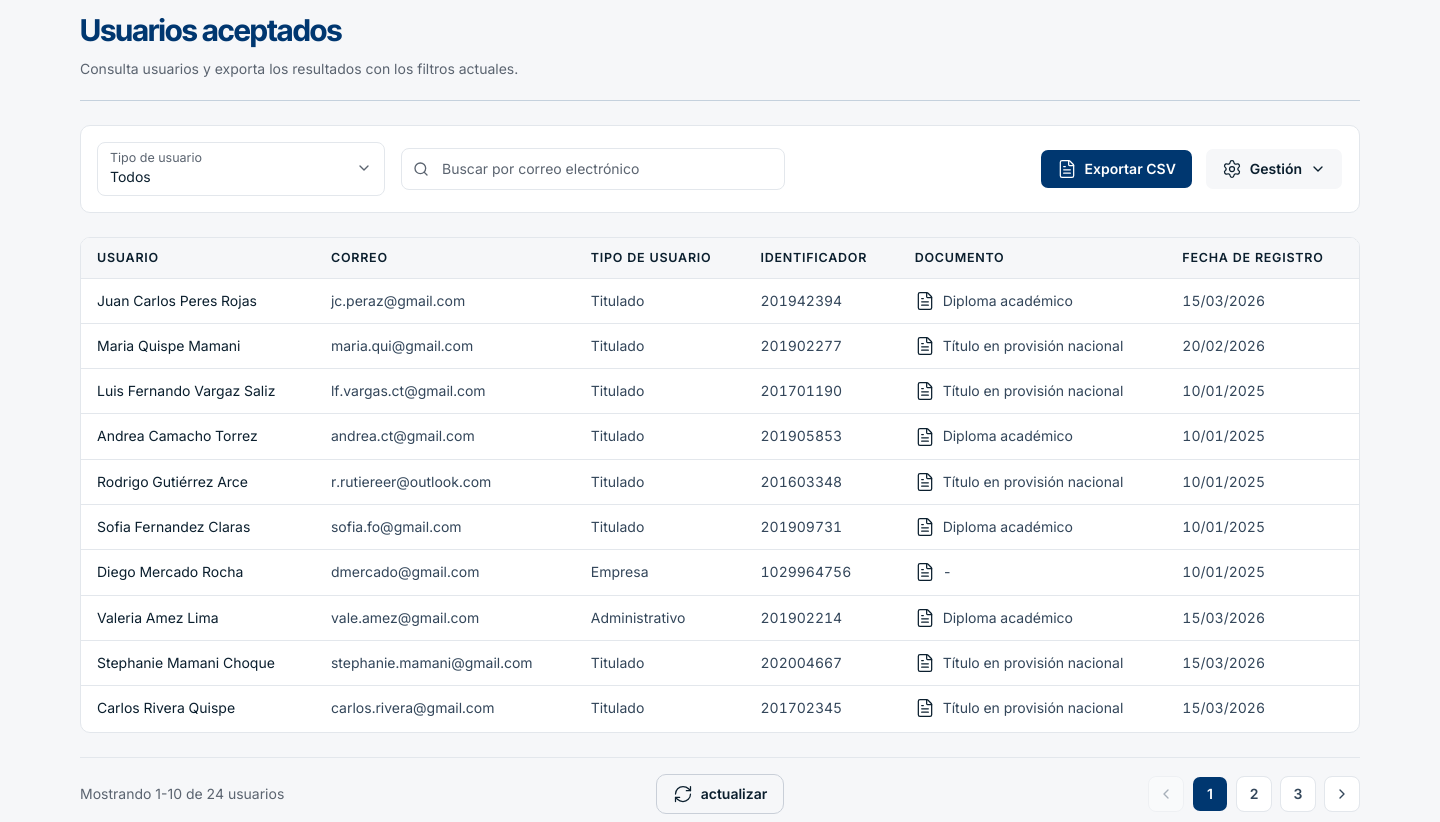
RegisteredUsersReportView › filtra por gestión y vuelve a la primera página
The width and height of the screenshot is (1440, 822).
Expected: the text "Juan Carlos Peres Rojas" is shown, [81,278,315,323]
Click the button named "Página 3": (1298, 794) [1280,776,1316,812]
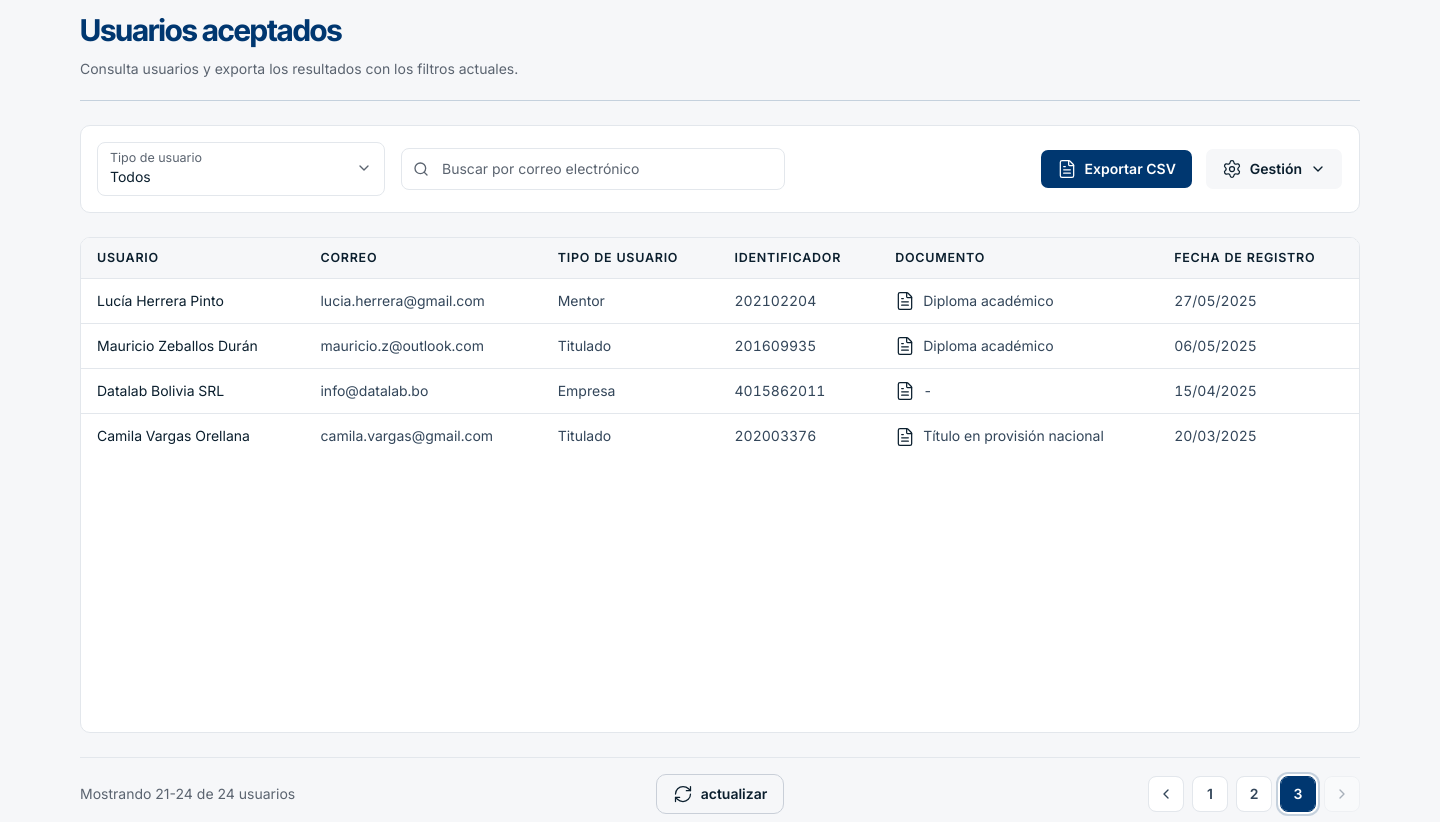
Expected: the text "Mostrando 21-24 de 24 usuarios" is shown, [80,785,295,802]
Click the button "Gestión": (1274, 169) [1205,148,1343,190]
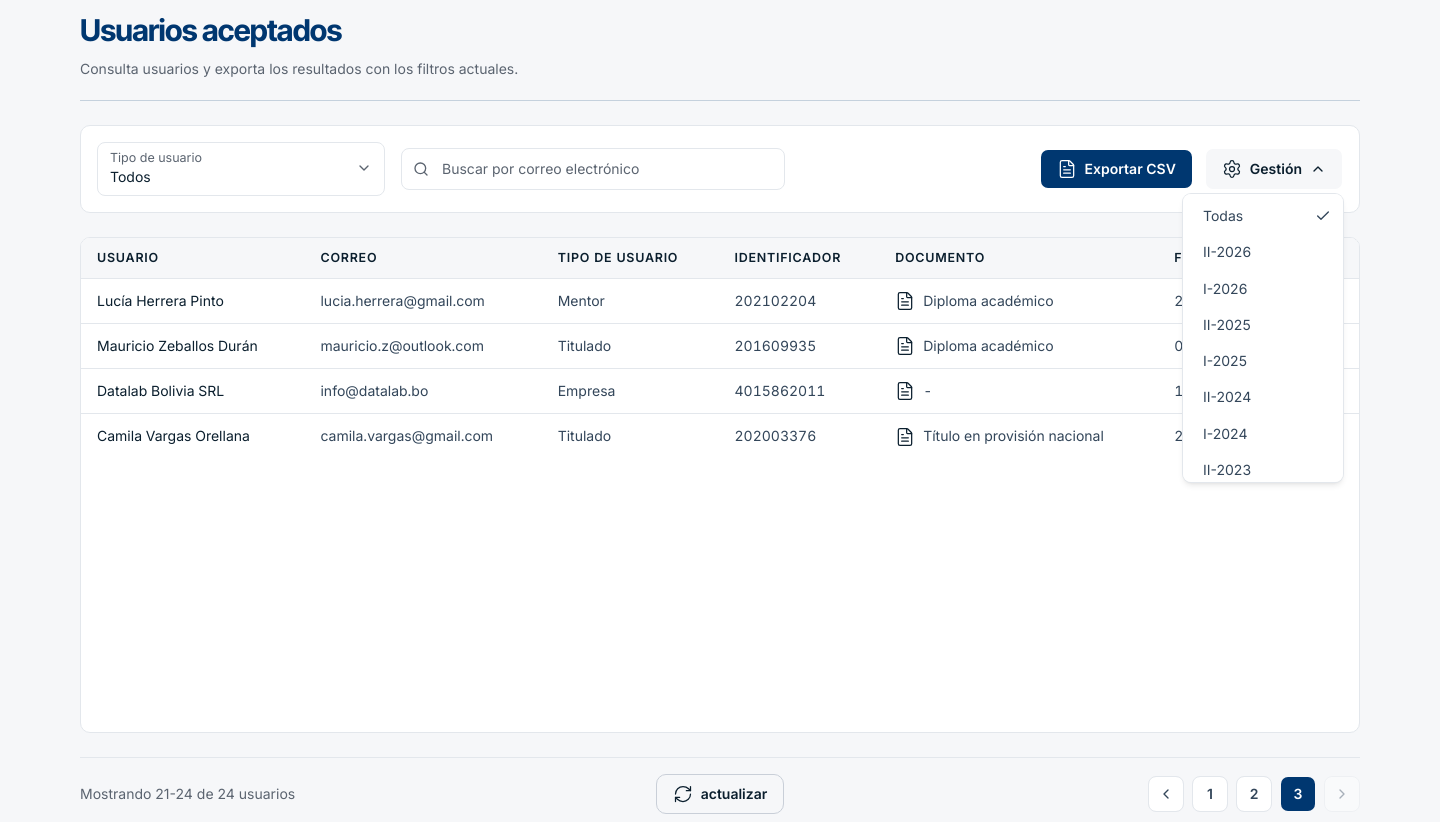
Click the menu item "I-2026": (1225, 288) [1203,280,1247,297]
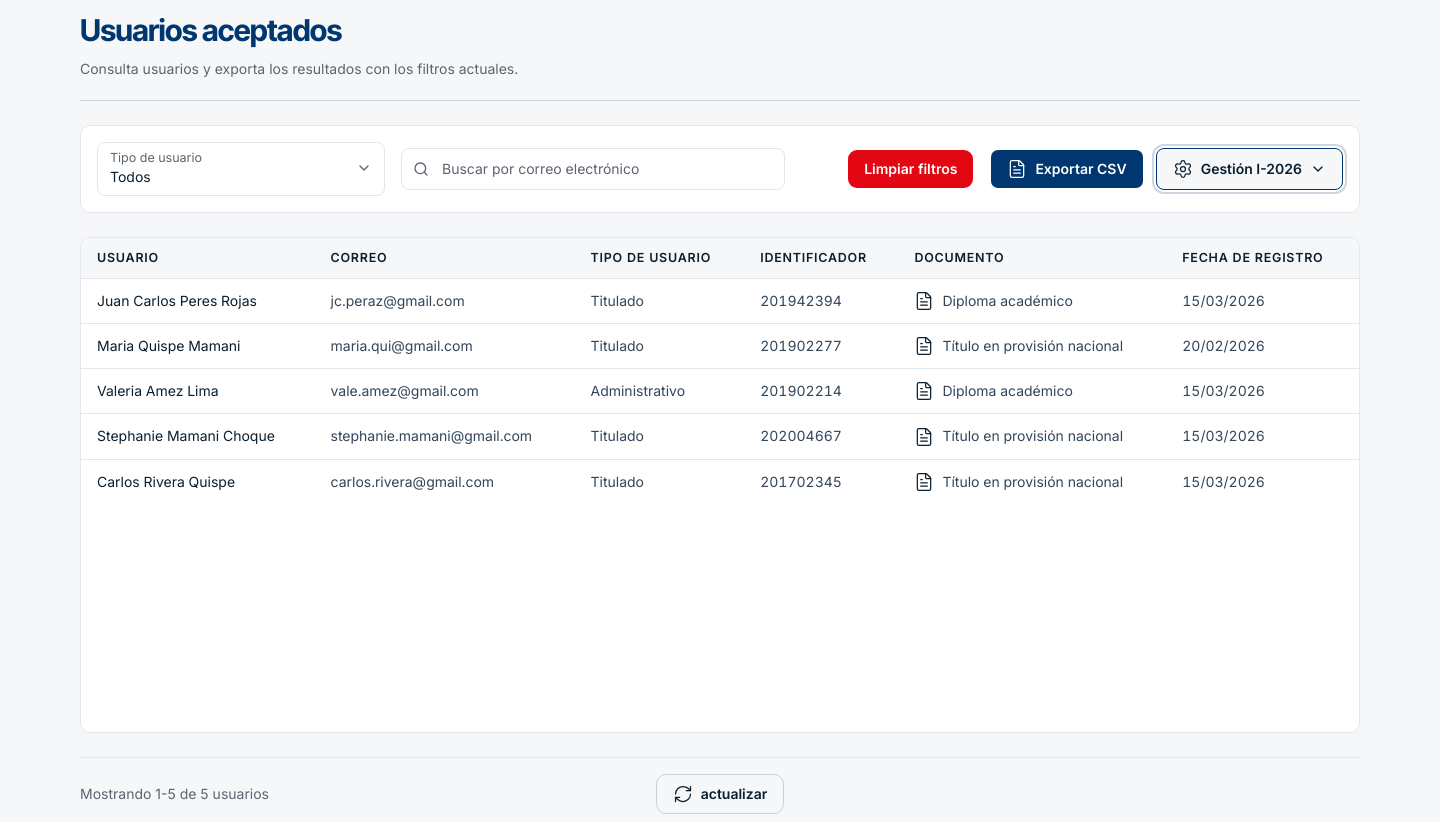
Expected: the text "Mostrando 1-5 de 5 usuarios" is shown, [80,785,269,802]
Expected: the text "Camila Vargas Orellana" is gone
Expected: the button "Gestión I-2026" is shown, [1156,148,1343,190]
